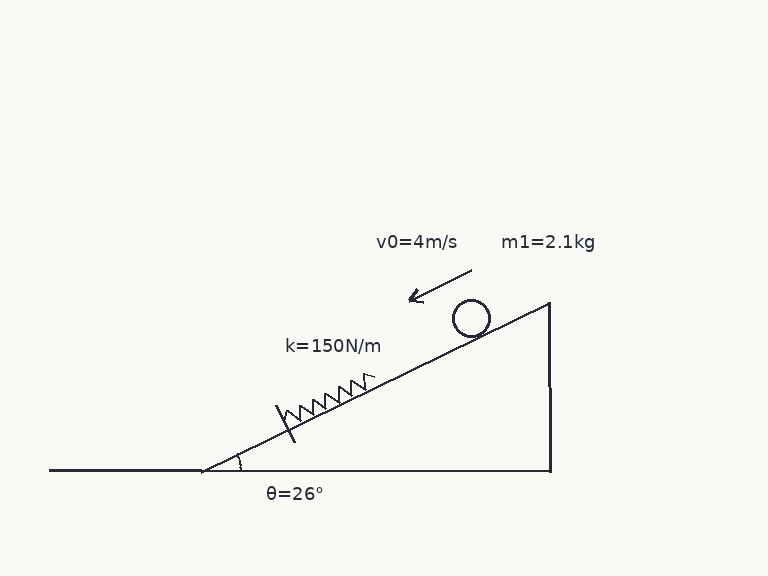ball: (450, 297, 492, 339)
ramp: (199, 300, 550, 473)
spring: (282, 371, 376, 423)
